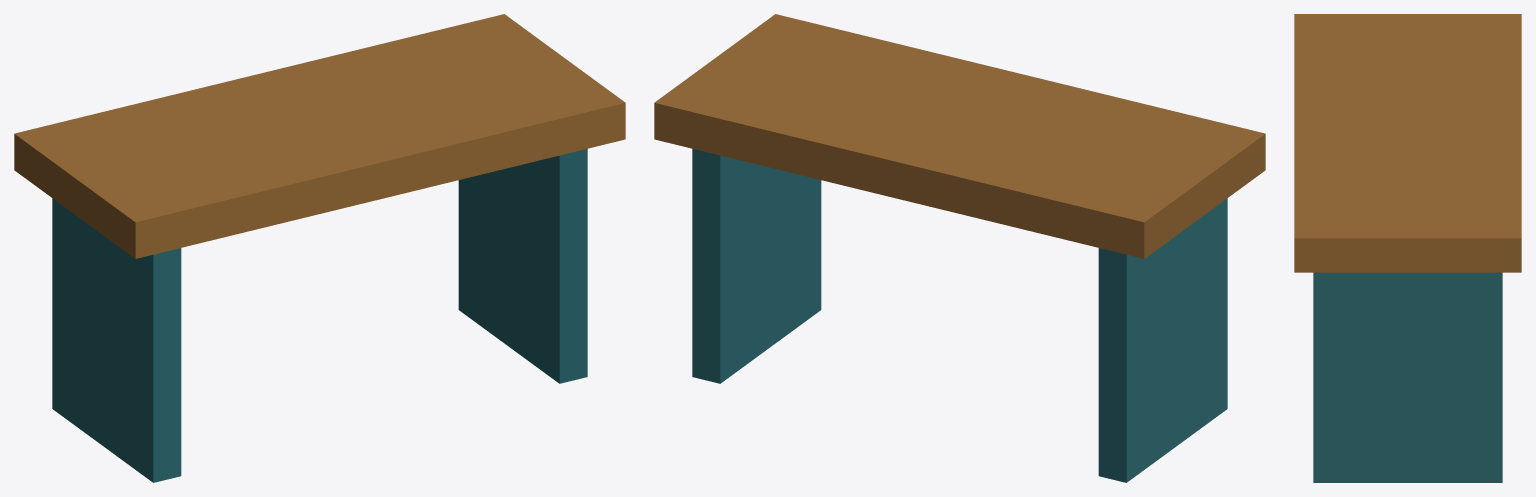
File: A_BottleCounter.fbx
3 renders of one model, left to right at view 1: azimuth 30°, elevation 25°; view 2: azimuth 150°, elevation 25°; view 3: azimuth 270°, elevation 25°, orthographic. The views are drawn at different scales.
Visible parts, largest first — view 1: A_BottleCounter.002; view 2: A_BottleCounter.002; view 3: A_BottleCounter.002.
Boxes of the visible parts, x1,y1,x2,y2 form: A_BottleCounter.002: (14,14,625,482); A_BottleCounter.002: (654,14,1265,482); A_BottleCounter.002: (1294,14,1521,482).
Bounding box in the file's own units: 1.4 × 0.75 × 0.6.
